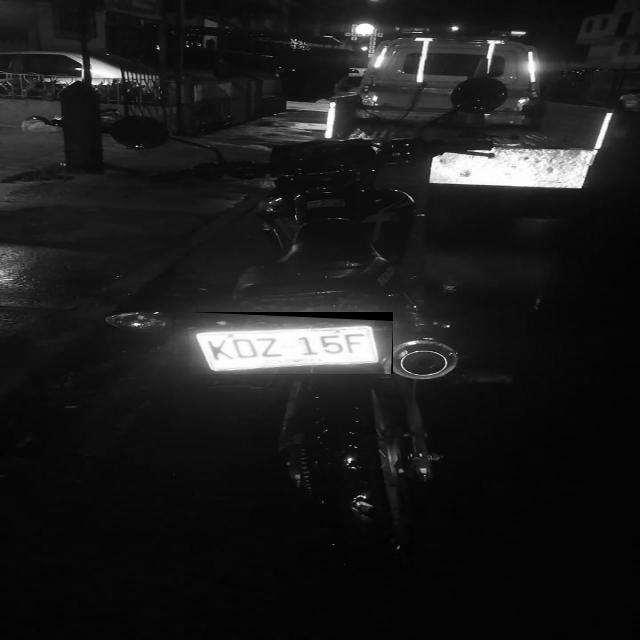plate: (189, 319, 393, 374)
